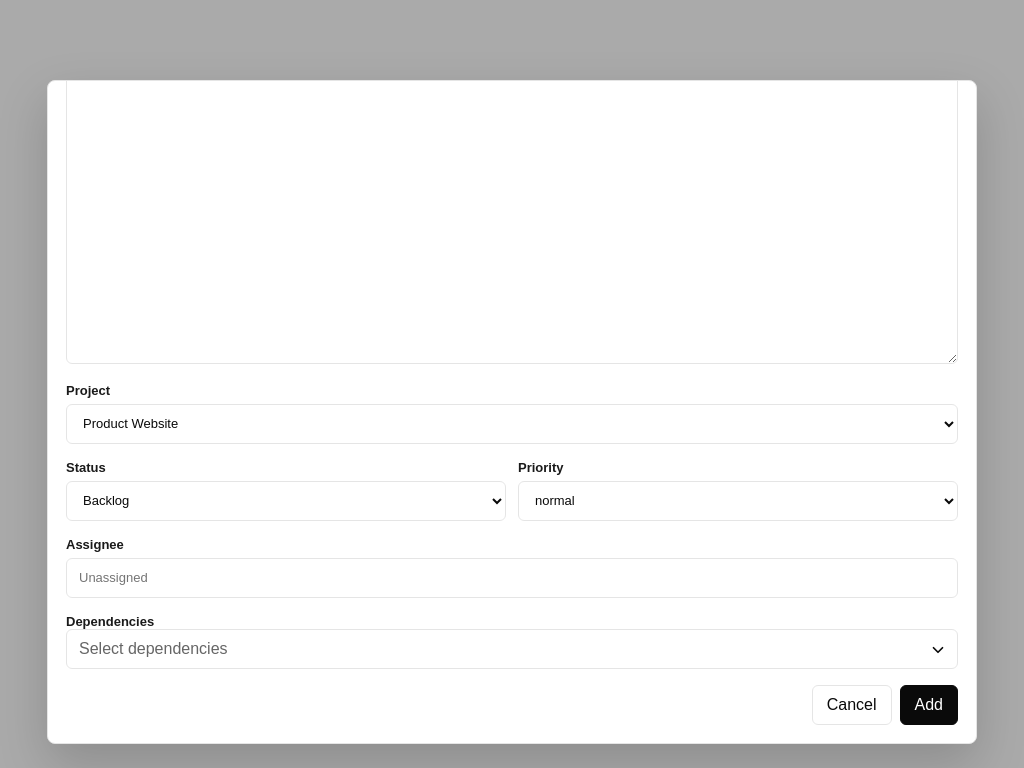
Test case: AddIssueDialog › shows validation errors without submitting
(page scrolled)
Click the button "Add". click: [929, 704]
box: [900,684,958,724]
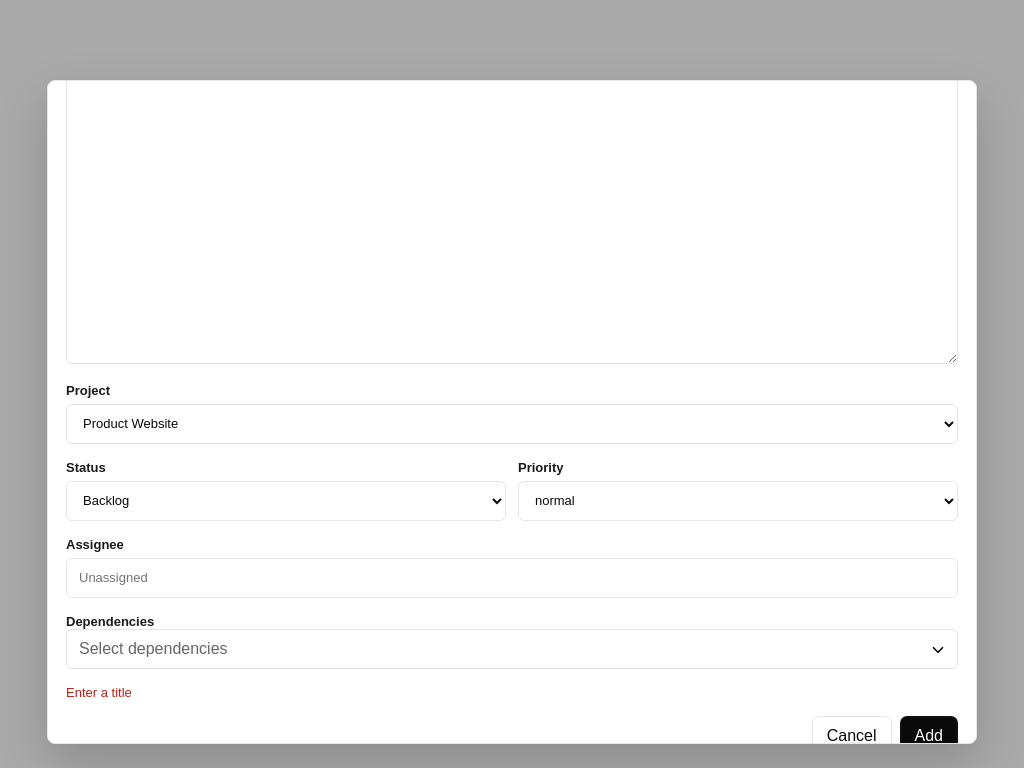
expect the text "Enter a title" is shown: met, box [66,684,132,700]
